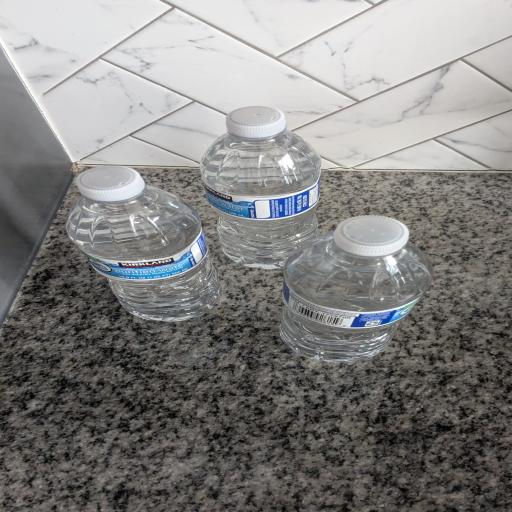waterbottle: (66, 167, 219, 321), (281, 216, 432, 361), (201, 107, 320, 268)
